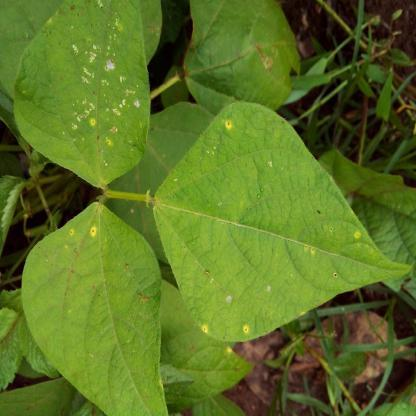Beans_Rust: (156, 104, 411, 340), (24, 199, 163, 416), (12, 0, 151, 182), (182, 0, 304, 102)
